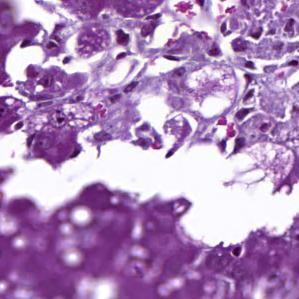ballooning: (179, 62, 240, 122)
